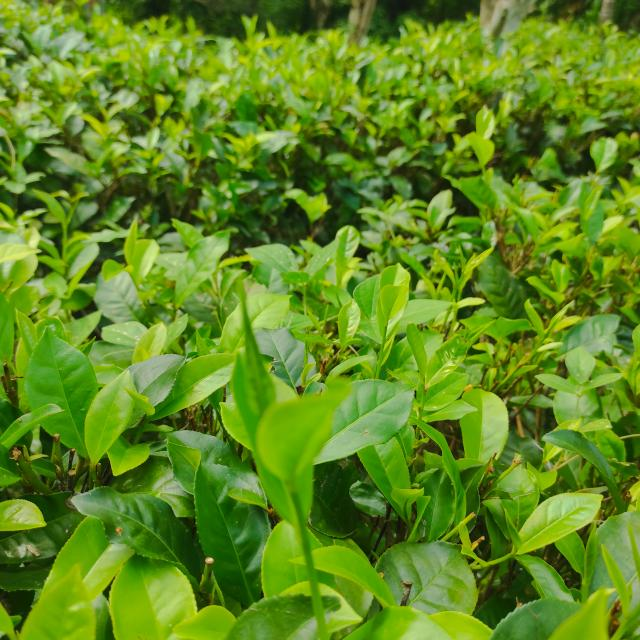unopened_leaf: (234, 274, 285, 436), (597, 538, 640, 632), (538, 295, 586, 341), (501, 502, 532, 558), (119, 385, 161, 423), (462, 316, 503, 351), (59, 189, 85, 234), (452, 240, 478, 280), (26, 462, 116, 473), (302, 306, 328, 340), (414, 464, 444, 491), (434, 266, 451, 297), (317, 304, 332, 330), (95, 102, 114, 120), (63, 362, 91, 366)
